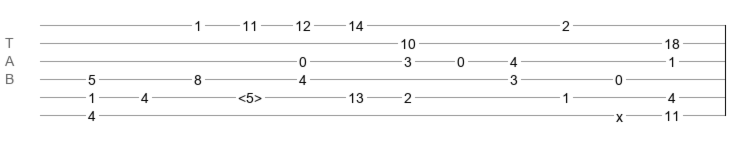0: (299, 54, 307, 64), (457, 54, 465, 64), (615, 72, 623, 82)
1: (88, 90, 96, 100), (194, 18, 202, 28), (562, 90, 570, 100), (668, 54, 676, 64)
10: (400, 36, 416, 46)
11: (242, 18, 258, 28), (664, 108, 680, 118)
12: (295, 18, 311, 28)
13: (348, 90, 364, 100)
14: (348, 18, 364, 28)
18: (664, 36, 680, 46)
2: (404, 90, 412, 100), (562, 18, 570, 28)
3: (404, 54, 412, 64), (510, 72, 518, 82)
4: (88, 108, 96, 118), (141, 90, 149, 100), (299, 72, 307, 82), (510, 54, 518, 64), (668, 90, 676, 100)
5: (88, 72, 96, 82)
8: (194, 72, 202, 82)
harmonic: (238, 90, 262, 100)
x: (616, 109, 623, 117)
